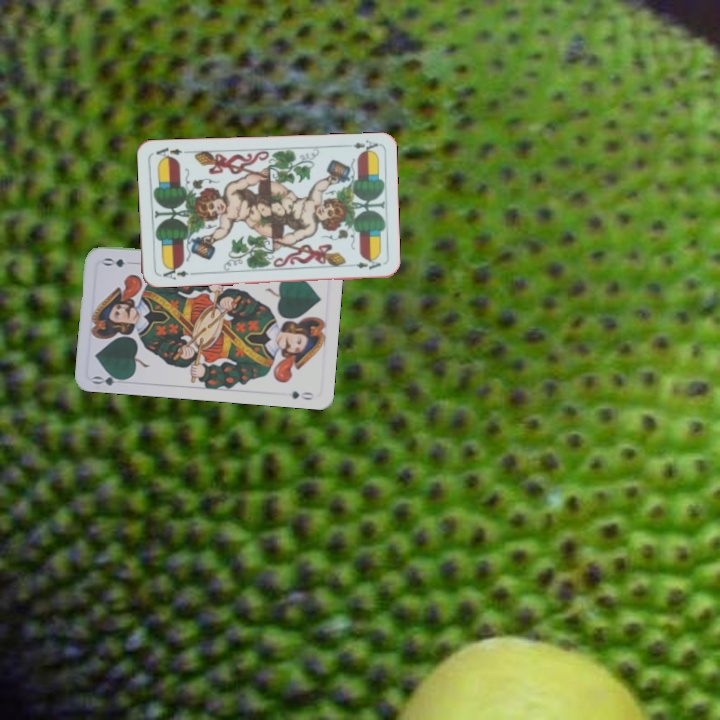EA: (156, 262, 196, 282), (340, 135, 380, 155)
GO: (89, 369, 130, 388)
